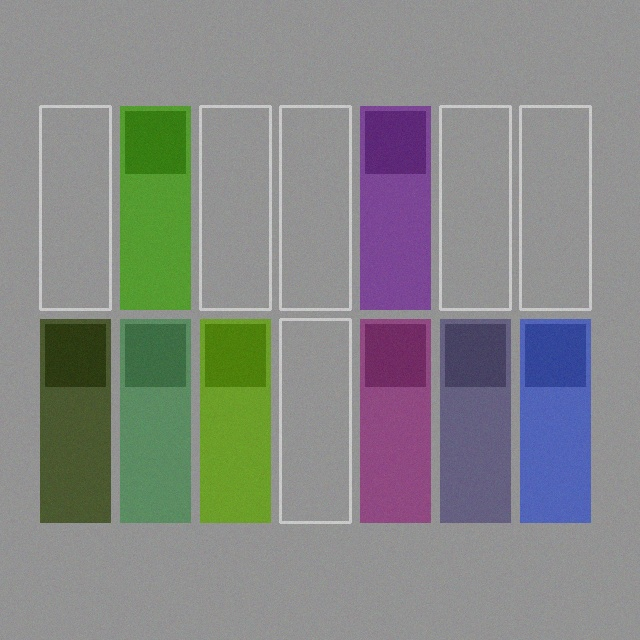space-empty: (40, 106, 110, 309), (200, 106, 270, 309), (280, 106, 350, 309), (440, 106, 510, 309), (520, 106, 590, 309), (280, 319, 350, 522)
space-occupied: (120, 106, 190, 309), (360, 106, 430, 309), (40, 319, 110, 522), (120, 319, 190, 522), (200, 319, 270, 522), (360, 319, 430, 522), (440, 319, 510, 522), (520, 319, 590, 522)
